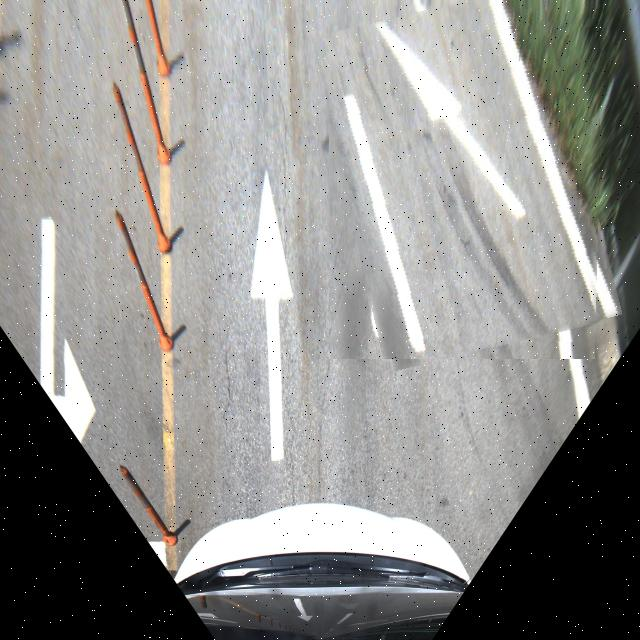chang_lane_left: (329, 0, 603, 359)
